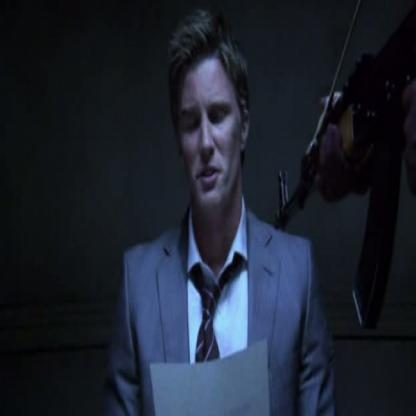Gun: (272, 5, 415, 329)
